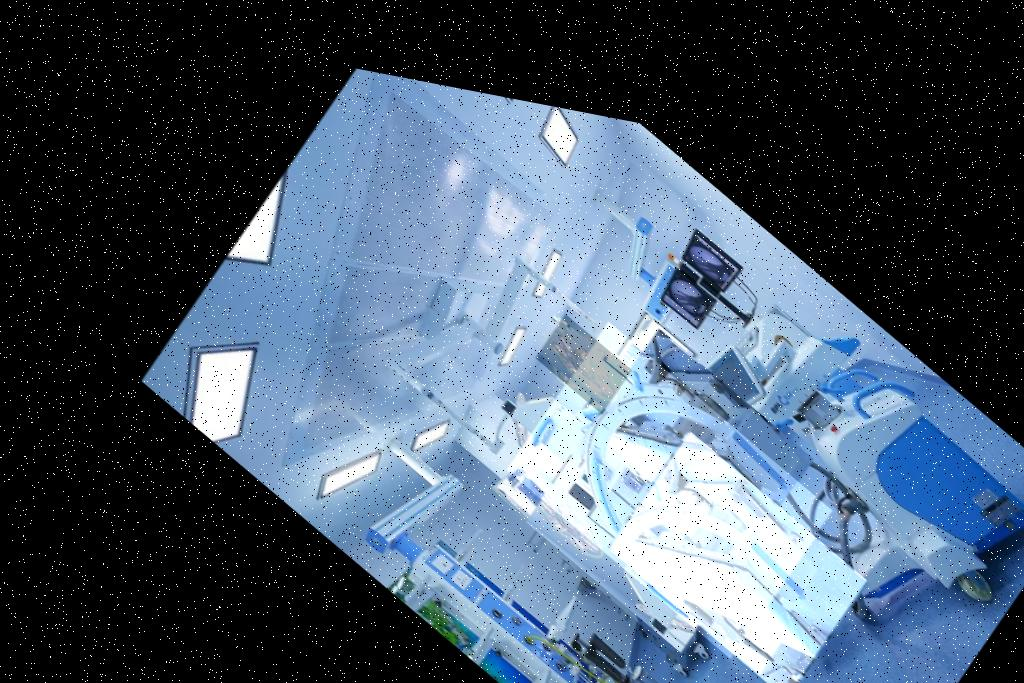Bed: (550, 389, 876, 683)
C_arm: (444, 276, 855, 660)
Light: (508, 287, 631, 401)
